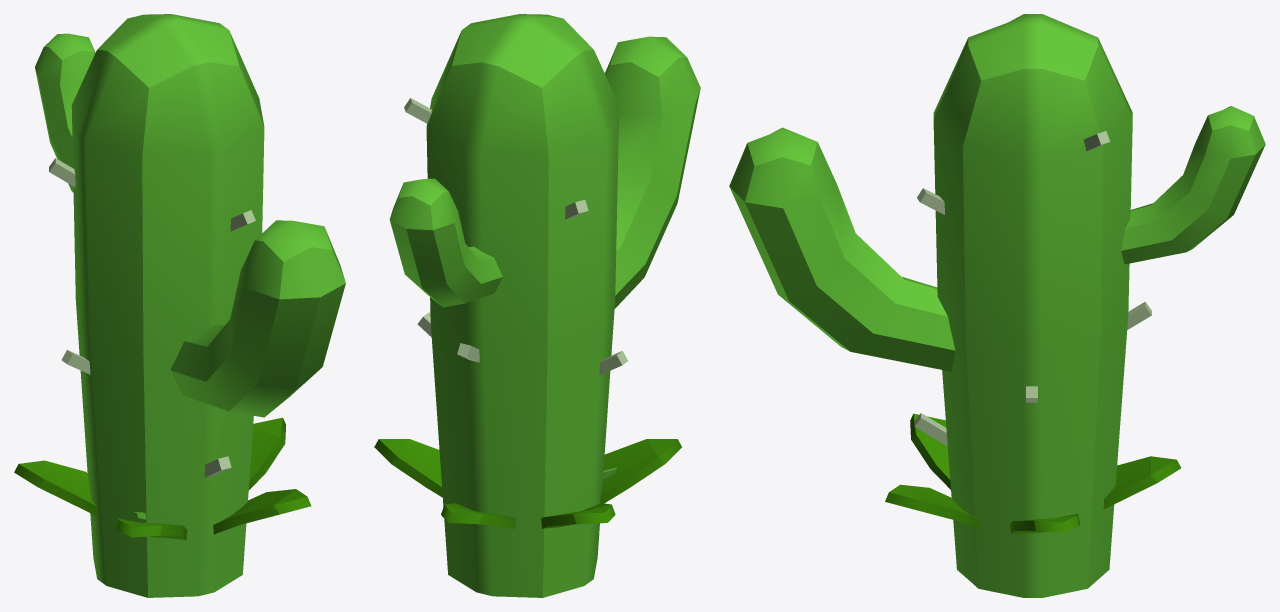
File: Simple_Vegatations.fbx
3 renders of one model, left to right at view 1: azimuth 30°, elevation 25°; view 2: azimuth 150°, elevation 25°; view 3: azimuth 270°, elevation 25°, orthographic.
Visible parts, largest first — view 1: cactus, Flower; view 2: cactus, Flower; view 3: cactus, Flower.
Boxes of the visible parts, box(x1,y1,x2,y2) form: cactus: box(35, 14, 345, 597); Flower: box(14, 417, 311, 540); cactus: box(389, 14, 700, 597); Flower: box(374, 439, 681, 528); cactus: box(729, 14, 1265, 597); Flower: box(885, 413, 1180, 534).
Bounding box in the file's own units: 1.65 × 3.42 × 3.05.
